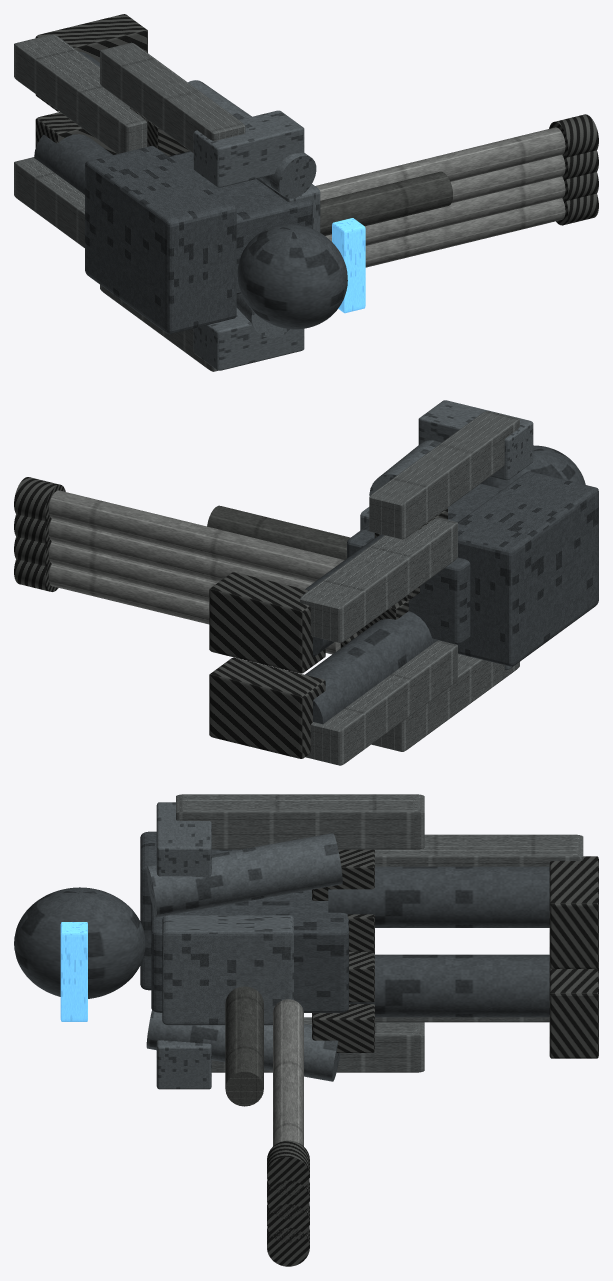
The model's file is s-u09-specter-exo-infantry-lod0.glb.
3 renders of one model, top to bottom at view 1: azimuth 30°, elevation 25°; view 2: azimuth 150°, elevation 25°; view 3: azimuth 270°, elevation 25°, orthographic. The views are drawn at different scales.
Parts seen in each view (by area): view 1: soldier_0_backpack, soldier_0_helmet, exo_servo_leg_1, exo_servo_arm_1, exo_rotary_barrel_3, soldier_0_shoulder_1, soldier_0_rifle, exo_rotary_barrel_0, exo_rotary_barrel_1, soldier_0_torso, soldier_0_shoulder_-1, exo_servo_leg_-1 (+14 smaller); view 2: soldier_0_backpack, exo_servo_leg_1, exo_servo_arm_1, soldier_0_boot_-1, exo_rotary_barrel_3, soldier_0_boot_1, exo_servo_leg_-1, soldier_0_leg_-1, soldier_0_torso, exo_rotary_barrel_2, exo_servo_arm_-1, exo_rotary_barrel_0 (+10 smaller); view 3: soldier_0_chest, exo_servo_arm_1, soldier_0_leg_1, soldier_0_leg_-1, soldier_0_helmet, soldier_0_arm_1, soldier_0_torso, exo_servo_leg_1, soldier_0_boot_1, soldier_0_boot_-1, soldier_0_rifle, exo_rotary_barrel_3 (+15 smaller).
Boxes of the visible parts, x1,y1,x2,y2 form: soldier_0_backpack: (85,146,236,334); soldier_0_helmet: (237,224,347,329); exo_servo_leg_1: (14,34,147,153); exo_servo_arm_1: (100,42,245,153); exo_rotary_barrel_3: (315,127,565,200); soldier_0_shoulder_1: (193,110,304,187); soldier_0_rifle: (320,171,452,235); exo_rotary_barrel_0: (365,198,565,267); exo_rotary_barrel_1: (325,176,565,245); soldier_0_torso: (169,152,312,294); soldier_0_shoulder_-1: (193,308,304,370); exo_servo_leg_-1: (14,157,84,247); soldier_0_backpack: (442,471,598,666); exo_servo_leg_1: (300,517,457,642); exo_servo_arm_1: (369,411,519,539); soldier_0_boot_-1: (209,657,325,758); exo_rotary_barrel_3: (48,490,344,582); soldier_0_boot_1: (209,572,325,673); exo_servo_leg_-1: (305,640,457,765); soldier_0_leg_-1: (305,611,441,724); soldier_0_torso: (347,483,502,644); exo_rotary_barrel_2: (48,519,313,589); exo_servo_arm_-1: (371,654,519,751); exo_rotary_barrel_0: (48,563,340,654); soldier_0_chest: (162,915,293,1025); exo_servo_arm_1: (176,794,424,849); soldier_0_leg_1: (328,866,549,927); soldier_0_leg_-1: (349,954,549,1017); soldier_0_helmet: (14,887,145,998); soldier_0_arm_1: (146,833,342,917); soldier_0_torso: (151,889,348,1012); exo_servo_leg_1: (375,834,583,866); soldier_0_boot_1: (549,856,598,968); soldier_0_boot_-1: (549,966,598,1058); soldier_0_rifle: (225,986,263,1106); exo_rotary_barrel_3: (273,999,303,1146).
Size of what is drawn, in the model's own units: 2.59 by 1.22 by 2.47.
Materials: 7 (7 with a texture image).
